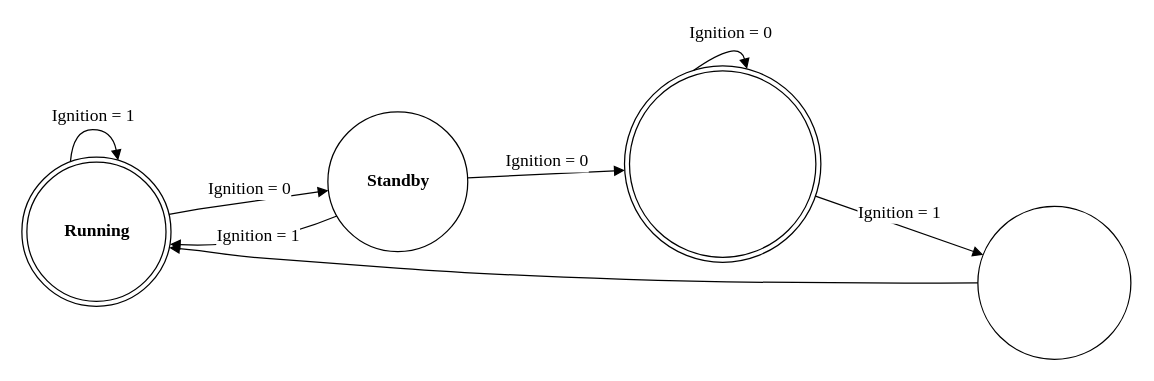
Some shapes in this 1154 by 381 pixel diagram are drawn without their labels. Here are the shapes that lost their labels. From the top down, the centre of each, then its label:
the point at 722,163: Power Down
the point at 1054,282: Initialize
